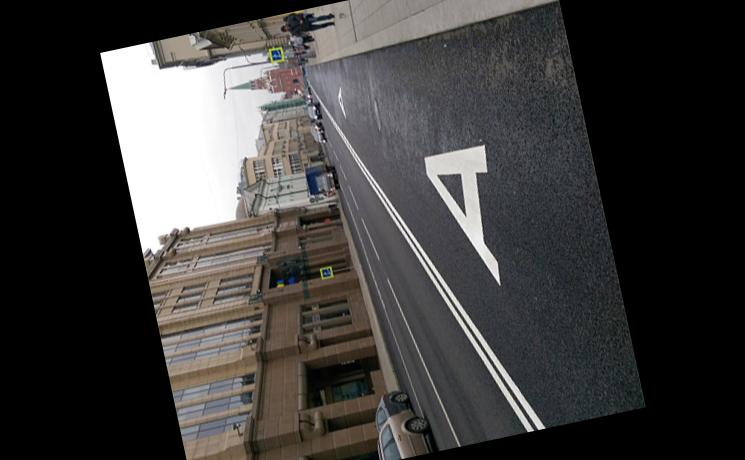bus_line: (310, 2, 644, 428)
